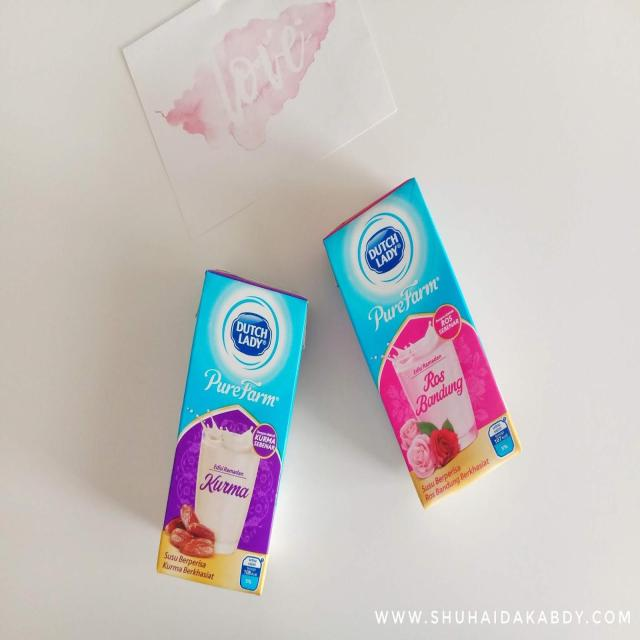drink carton: (324, 175, 520, 504), (160, 269, 308, 603)
